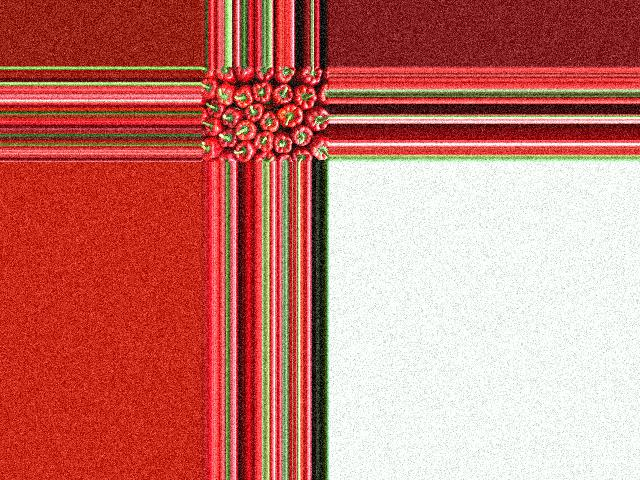bell_pepper: (202, 140, 222, 160)
